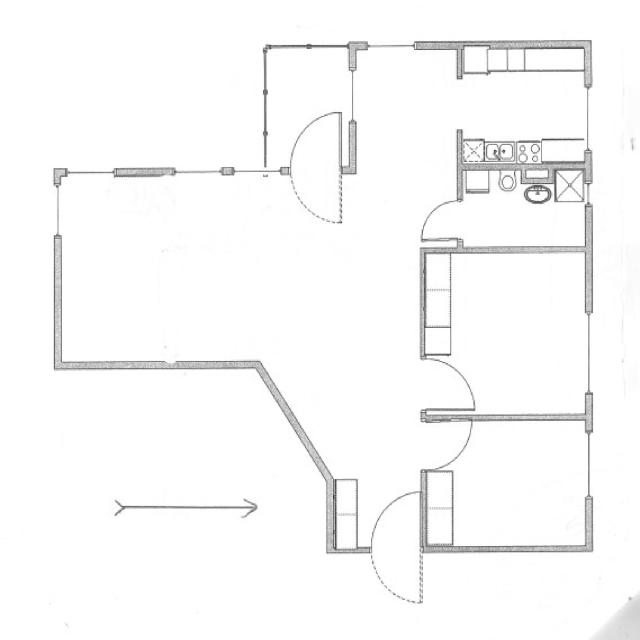door: (289, 106, 342, 224), (369, 489, 422, 603), (423, 357, 478, 412), (430, 416, 474, 468), (419, 196, 464, 242)
window: (471, 409, 589, 430), (580, 310, 599, 395), (581, 431, 598, 501), (63, 162, 117, 181), (49, 182, 66, 239), (172, 163, 224, 178), (364, 38, 417, 52), (583, 179, 596, 208)
zone: (57, 174, 285, 365), (423, 251, 595, 417), (350, 45, 463, 250), (428, 419, 594, 554), (458, 46, 591, 166), (461, 164, 590, 251)
